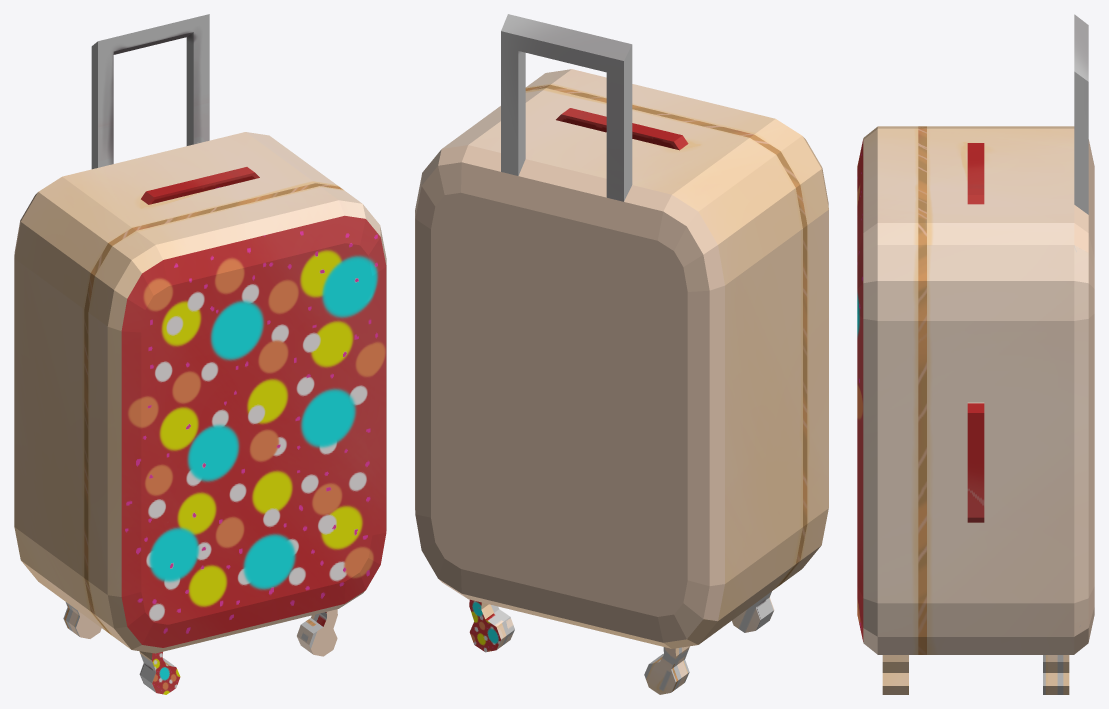
The model's file is waliza.fbx.
3 views of the same model, side by side, from view 1: azimuth 30°, elevation 25°; view 2: azimuth 150°, elevation 25°; view 3: azimuth 270°, elevation 25° (orthographic). The views are drawn at different scales.
Visible parts, largest first — view 1: Cube, Cylinder; view 2: Cube, Cylinder; view 3: Cube, Cylinder.
Boxes of the visible parts, x1=… form: Cube: x1=14, y1=14, x2=386, y2=653; Cylinder: x1=63, y1=602, x2=337, y2=694; Cube: x1=415, y1=14, x2=828, y2=648; Cylinder: x1=469, y1=591, x2=774, y2=694; Cube: x1=857, y1=14, x2=1094, y2=654; Cylinder: x1=882, y1=655, x2=1069, y2=694.
Size of the model in its own units: 51.11 by 99.62 by 35.
2 materials, 2 textured.
